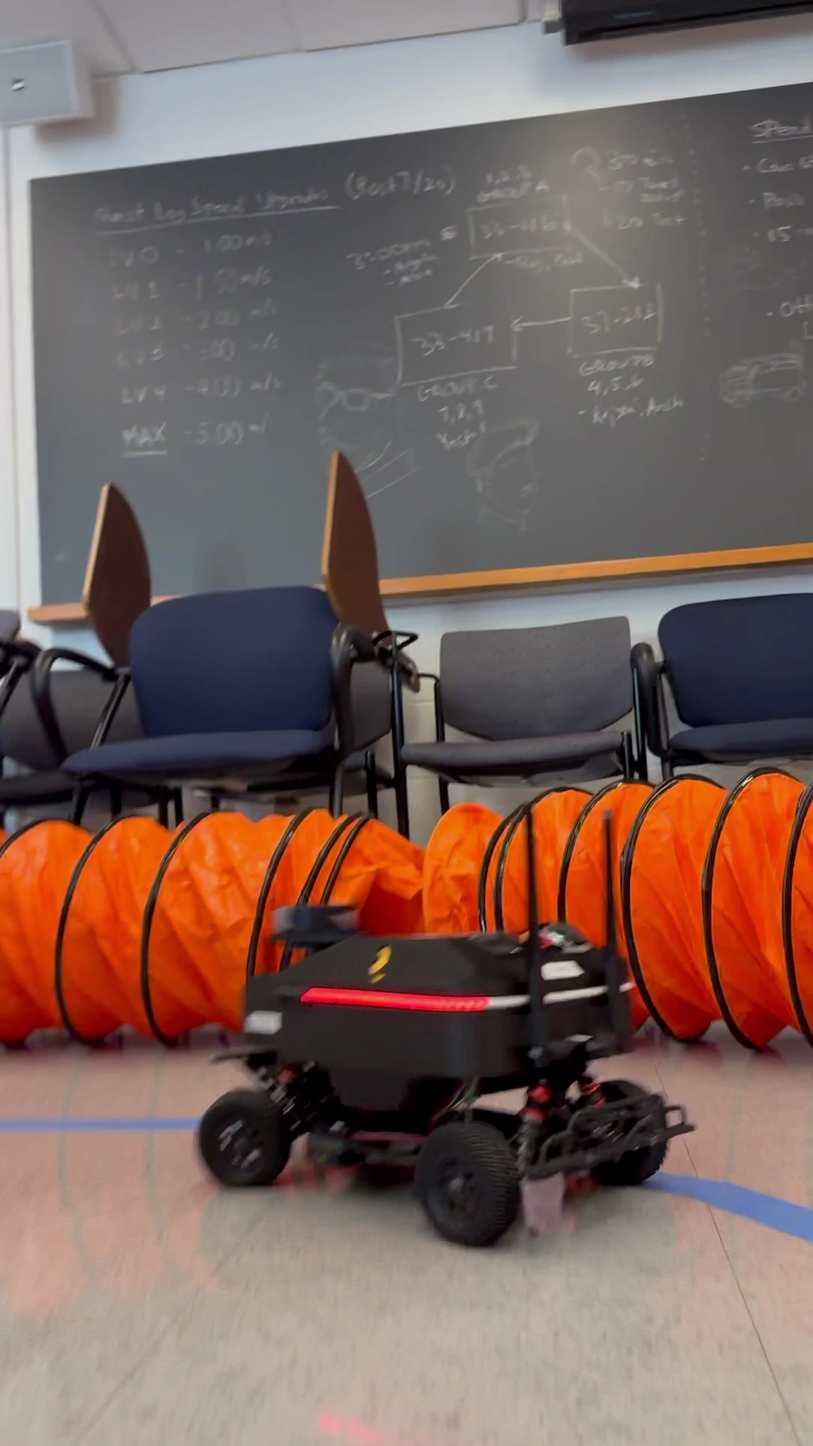racecar: (197, 810, 691, 1250)
